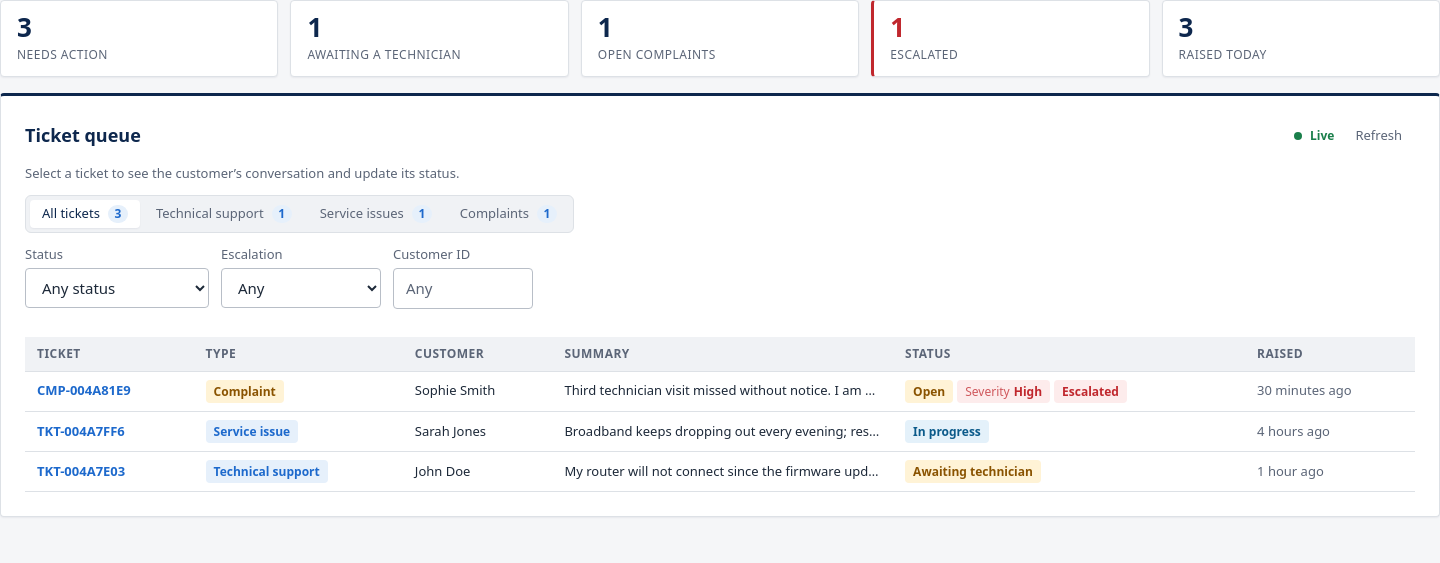
Test case: TicketsPanel › offers the statuses that fit the type of ticket
Expected: the row "technician visit missed" is shown, [25, 372, 1415, 411]
Click the button "CMP-004A81E9".
click(84, 391)  # box [37, 381, 131, 401]
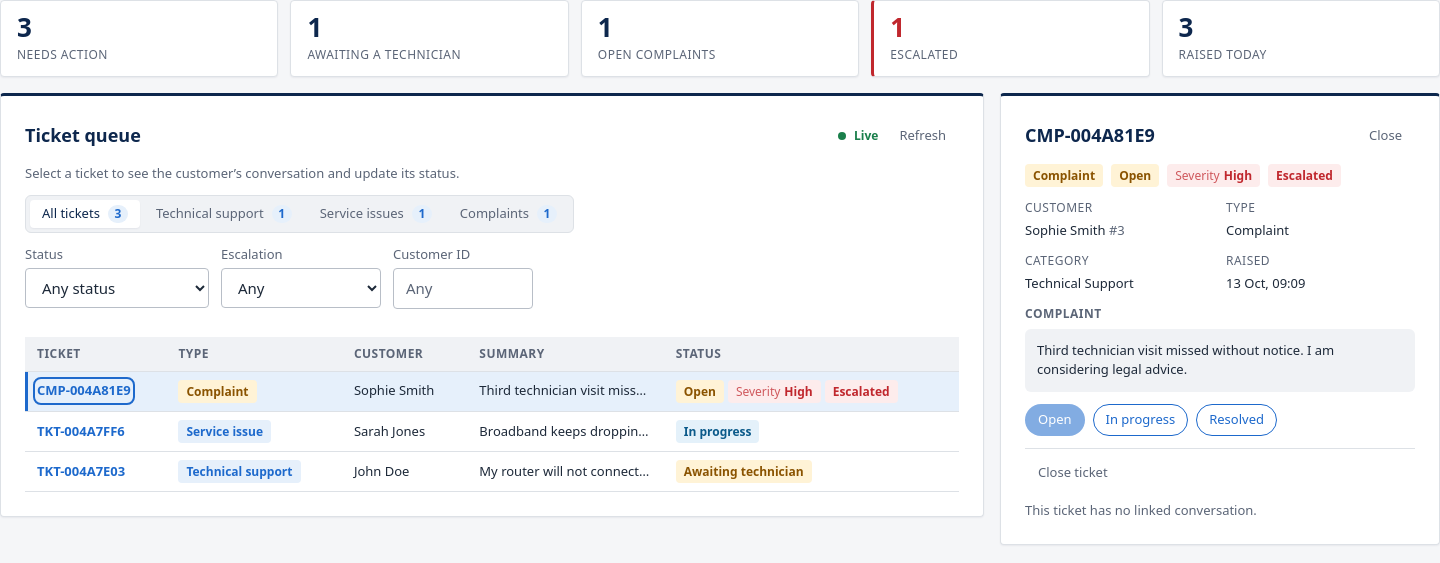
Expected: the button "Open" is shown, [1025, 404, 1084, 436]
